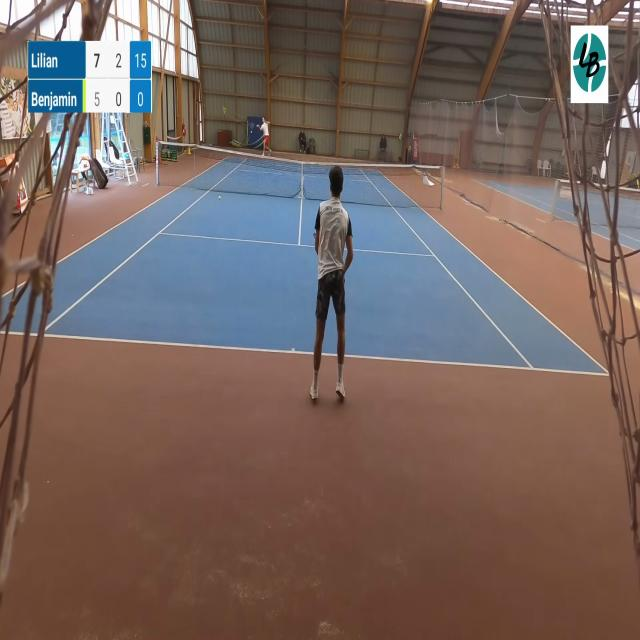ball: (217, 195, 223, 201), (251, 131, 252, 133)
